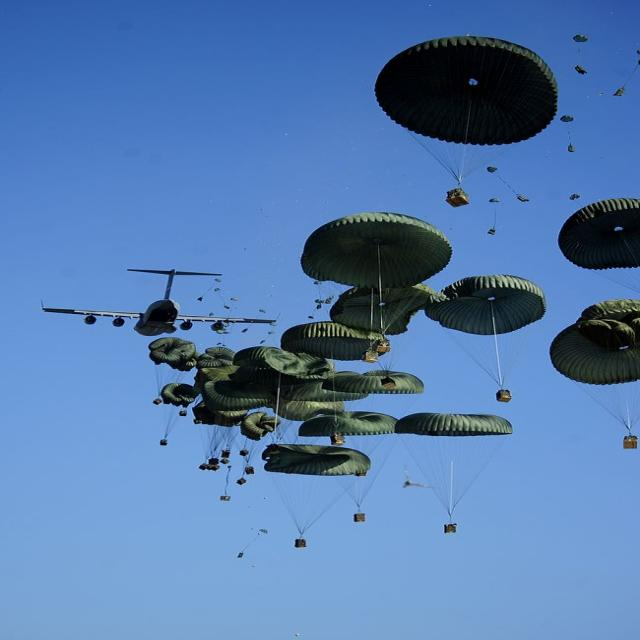MIL_Plane: (59, 230, 261, 297)
